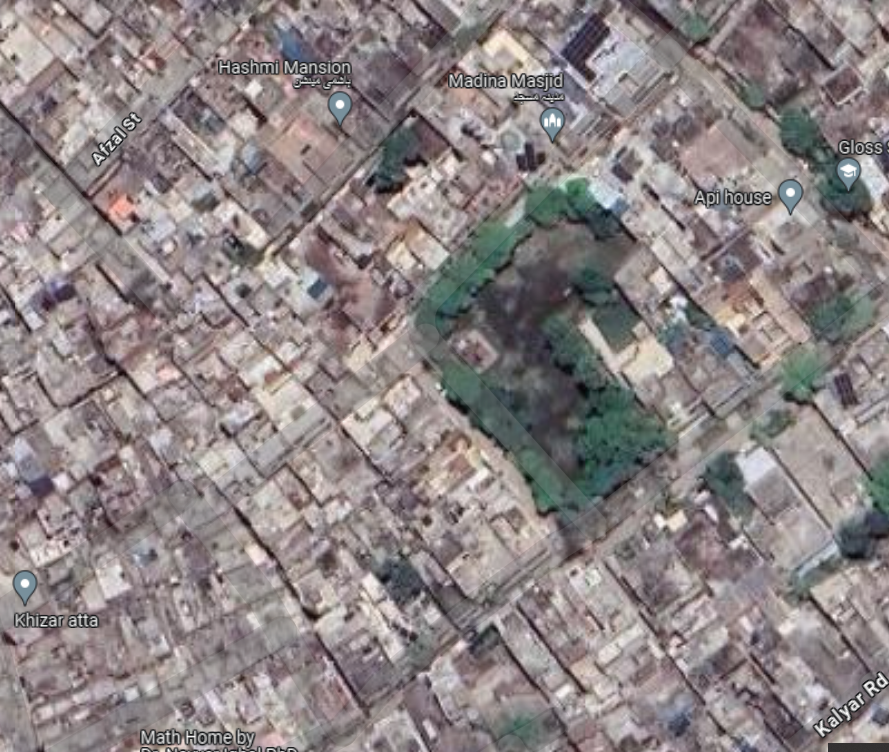solar-panel: (567, 10, 607, 82), (510, 132, 553, 173), (835, 369, 857, 404)
